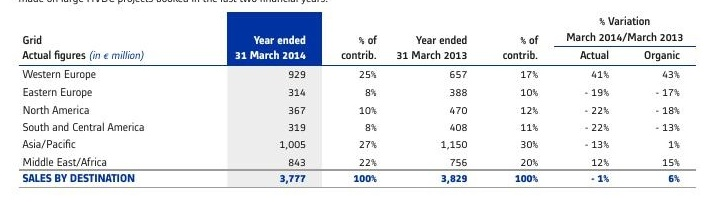table: (0, 0, 716, 205)
